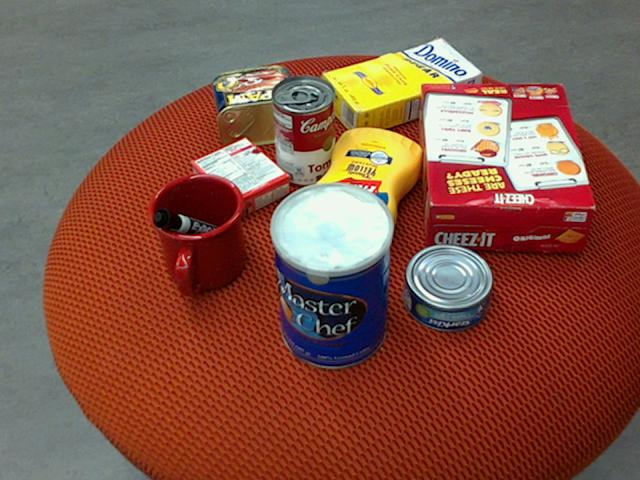cracker_box: (418, 82, 595, 250)
gelatin_box: (189, 135, 287, 221)
large_marker: (151, 209, 234, 247)
master_chef_can: (268, 184, 391, 370)
mug: (145, 173, 245, 296)
mustard_bottle: (302, 127, 423, 271)
potted_meat_can: (212, 64, 307, 147)
sugar_box: (320, 37, 482, 136)
tomato_soup_can: (271, 73, 335, 184)
tuna_fish_can: (403, 243, 494, 332)
